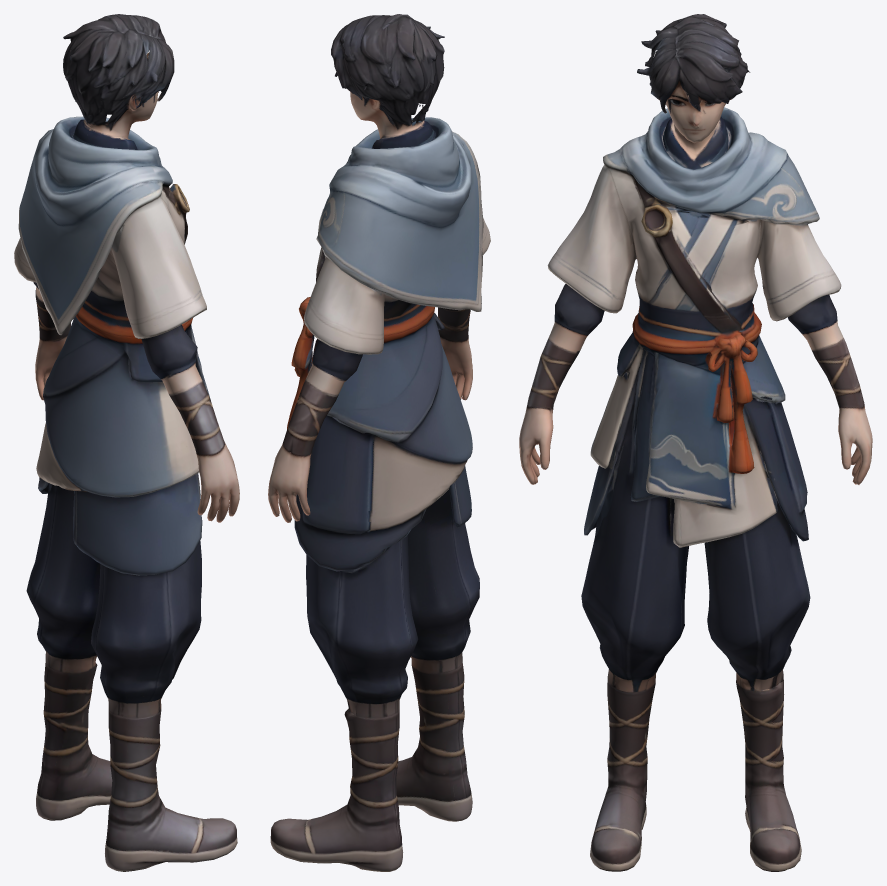
Rendered from ranger_tripo.glb.
3 renders of one model, left to right at view 1: azimuth 30°, elevation 25°; view 2: azimuth 150°, elevation 25°; view 3: azimuth 270°, elevation 25°, orthographic.
Visible parts, largest first — view 1: tripo_node_6a9764a3; view 2: tripo_node_6a9764a3; view 3: tripo_node_6a9764a3.
Part boxes in pixels (x1,y1,x2,y2): tripo_node_6a9764a3: [14, 14, 239, 871]; tripo_node_6a9764a3: [268, 14, 490, 871]; tripo_node_6a9764a3: [519, 14, 872, 871].
Bounding box in the file's own units: 0.1949 × 0.9786 × 0.3827.
Materials: 3 (3 with a texture image).
